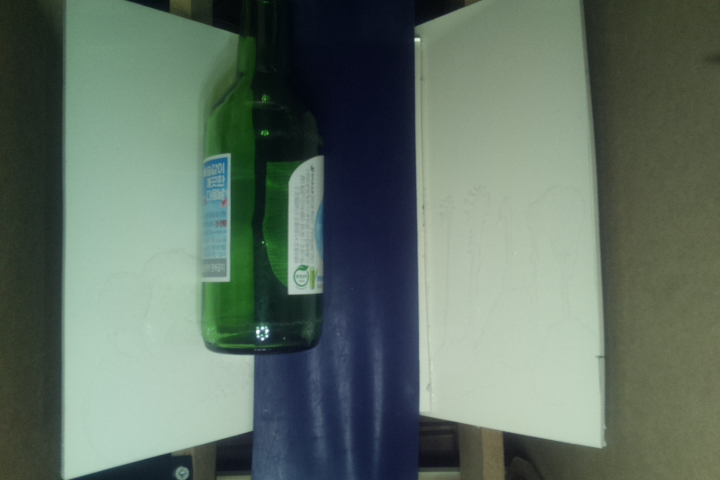soju: (197, 1, 336, 361)
